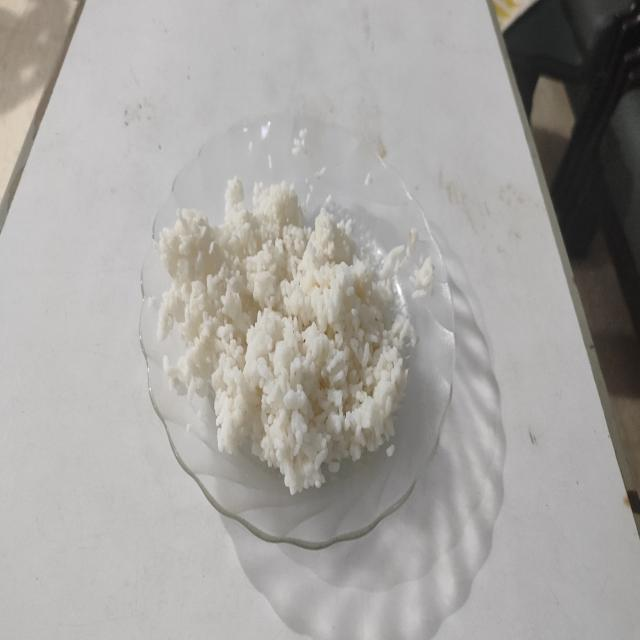nasi_putih: (158, 178, 415, 476)
